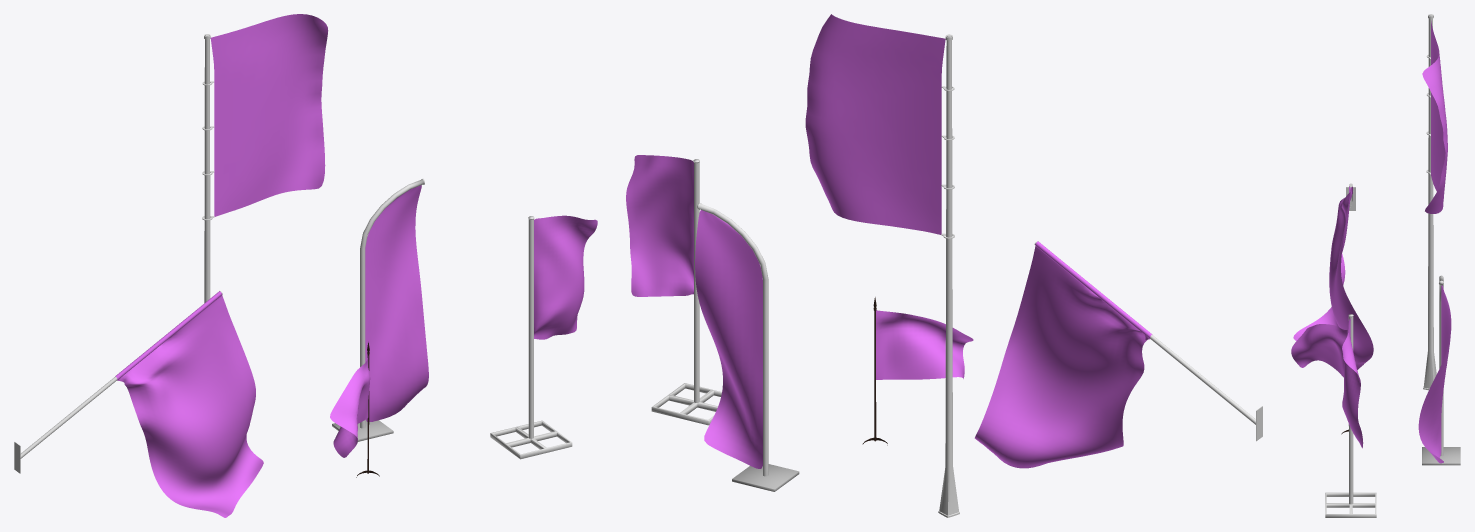
File: 5_Different_Flag_Assets.glb
3 renders of one model, left to right at view 1: azimuth 30°, elevation 25°; view 2: azimuth 150°, elevation 25°; view 3: azimuth 270°, elevation 25°, orthographic. The views are drawn at different scales.
Parts seen in each view (by area): view 1: unnamed (×11); view 2: unnamed (×12); view 3: unnamed (×10).
Part boxes in pixels (x1,y1,x2,y2): unnamed (×11): [14, 14, 597, 517]; unnamed (×12): [626, 14, 1262, 517]; unnamed (×10): [1291, 14, 1460, 517].
Bounding box in the file's own units: 12.03 × 8.79 × 3.59.
